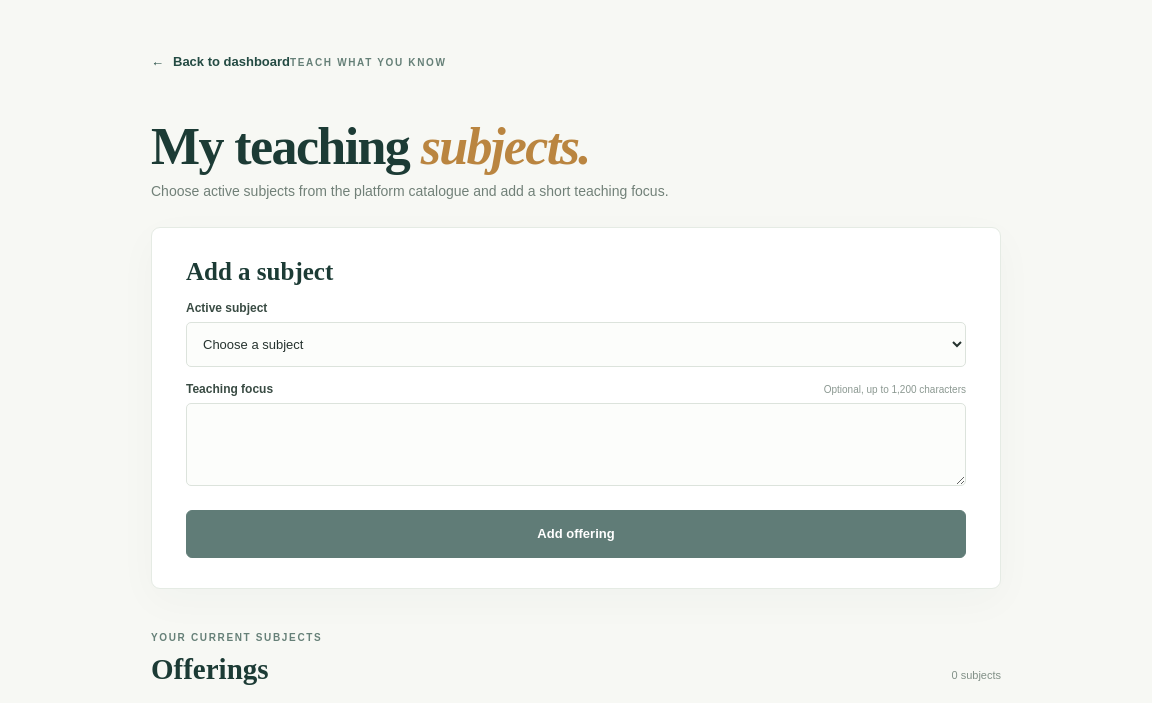
Test: TutorOfferingsPage › loads catalogue subjects and submits a new tutor offering through the API
This screenshot has width=1152, height=703.
Select "Statistics" in the dropdown labelled "Active subject" at (576, 345), box [186,322,966,367]
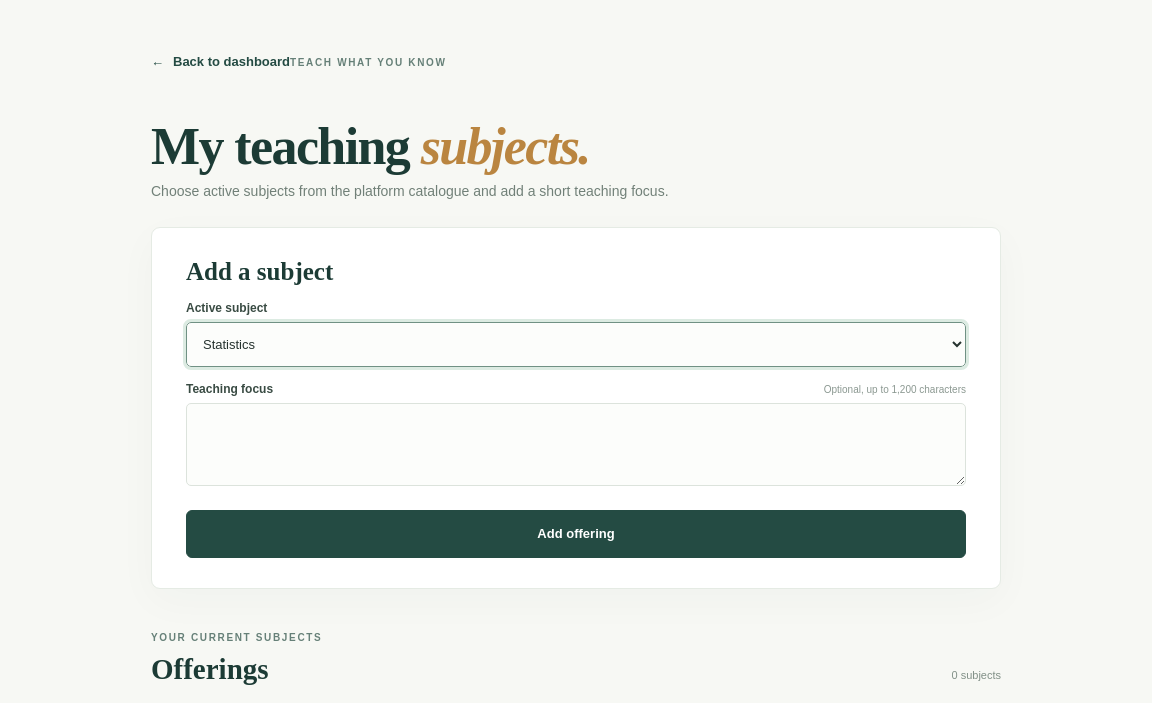
Type "Probability and data analysis" into the text box labelled "Teaching focus Optional, up to 1,200 characters" at (576, 444), box [186,403,966,486]
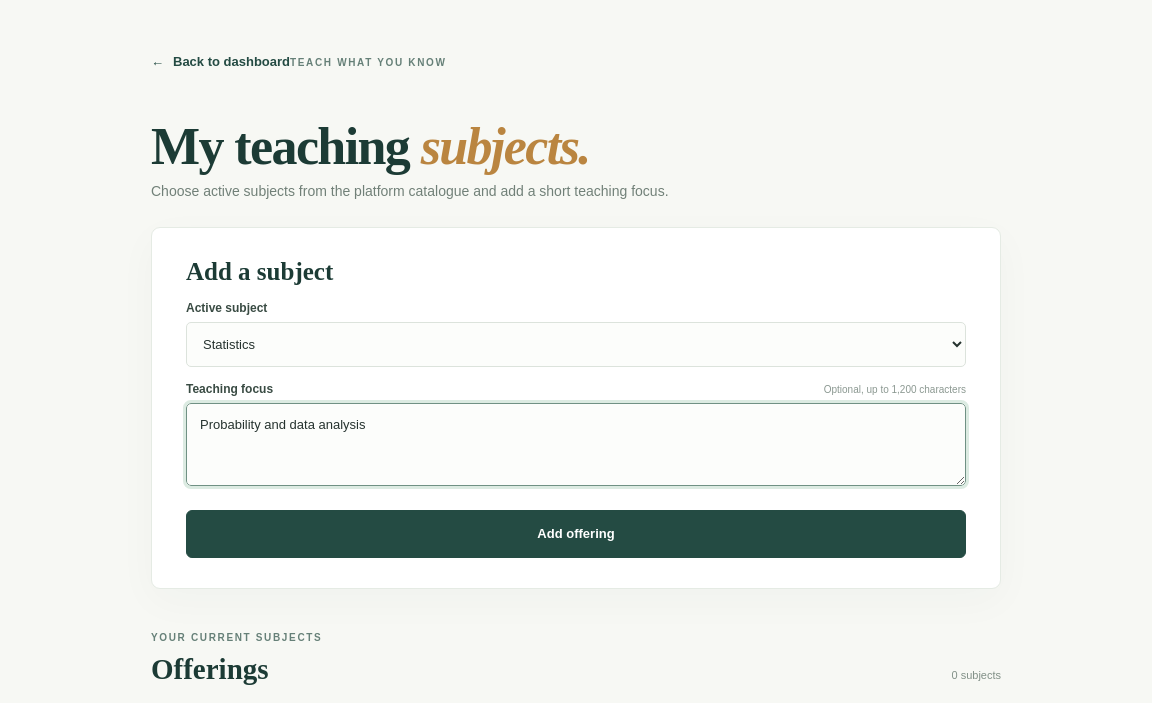
Click the button "Add offering" at (576, 534), box [186,510,966,558]
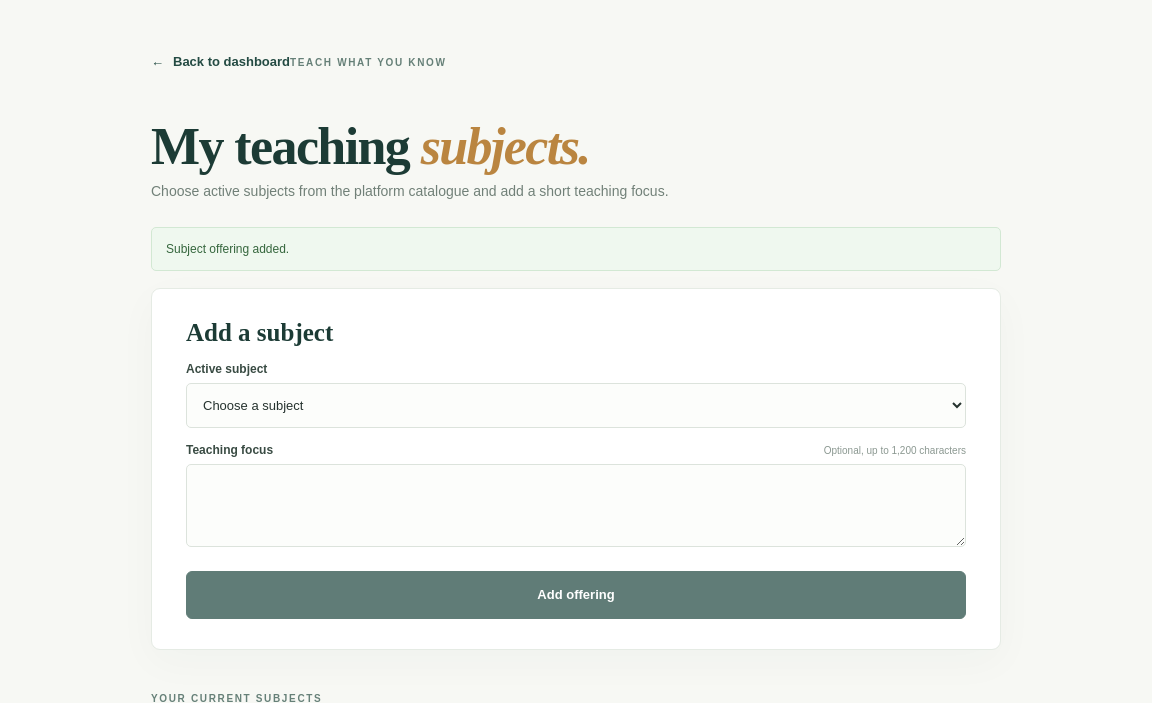
Now the message "Subject offering added." is shown, box [151,227,1001,271]
